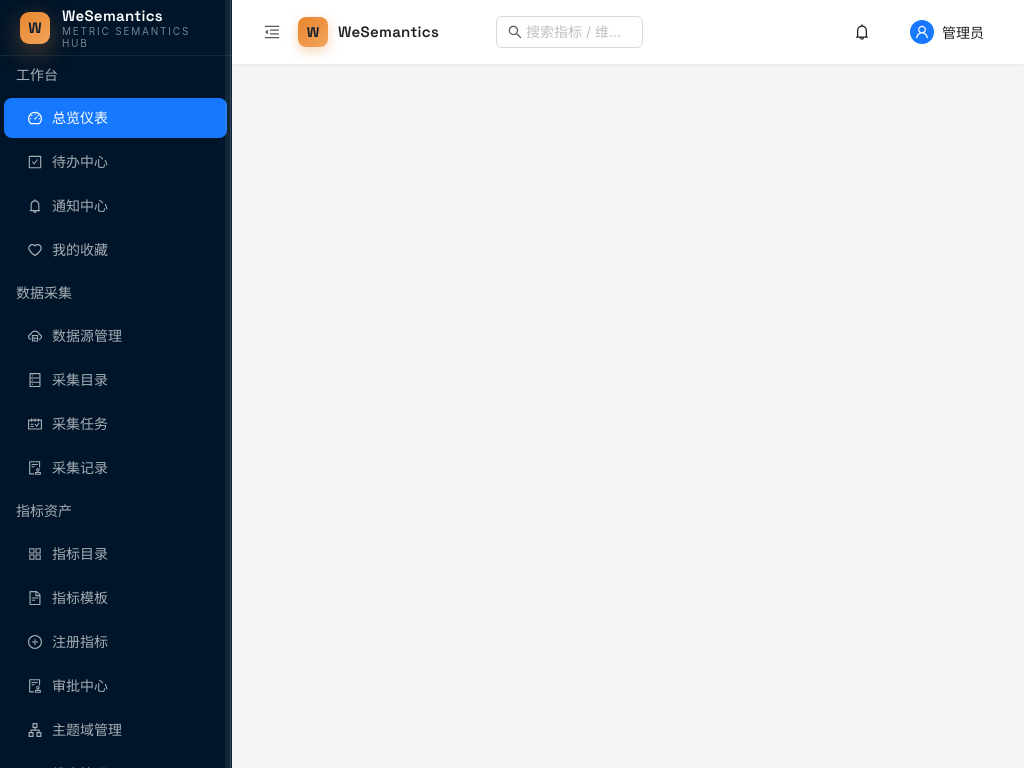
Layout 侧边栏伸缩（按用户持久化） › 默认展开；点击收起按钮后侧边栏折叠并持久化到该用户
The width and height of the screenshot is (1024, 768).
Step 1. Click the button named "收起侧边栏" → (272, 32), box [256,16,288,48]
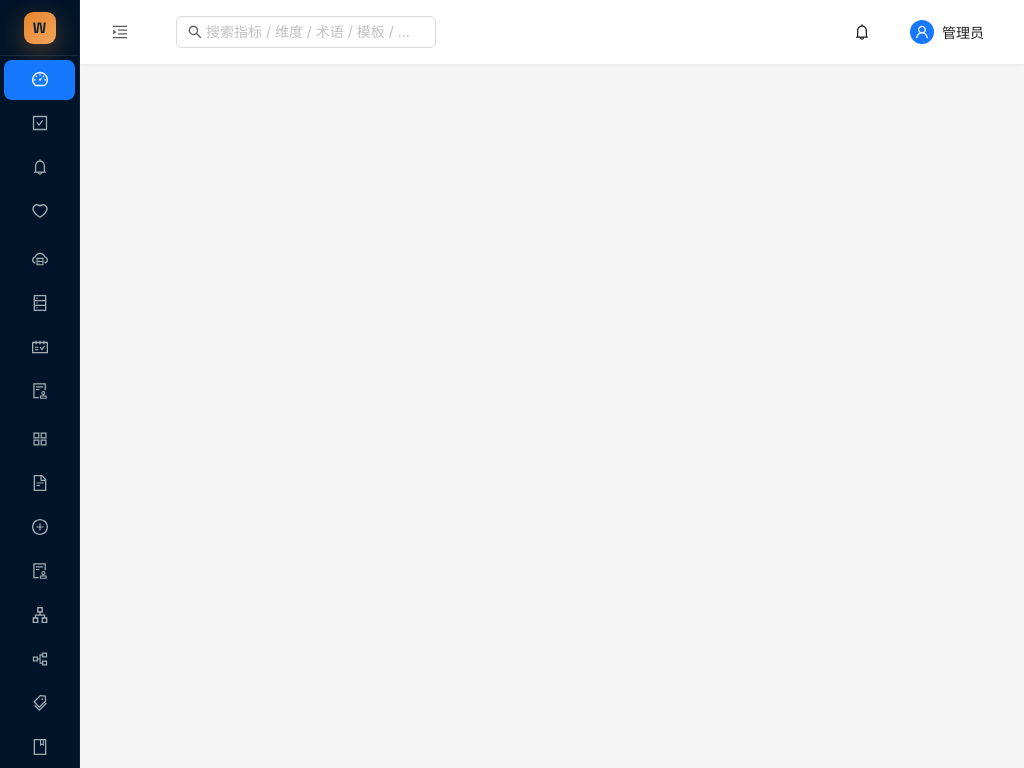
Expected: the element showing "W" is shown, [0,0,80,767]
